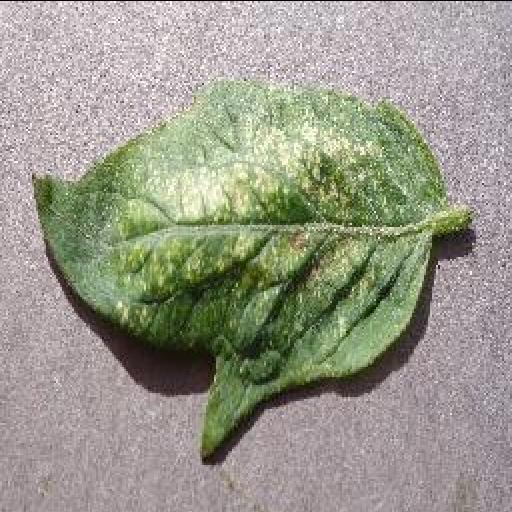disease_tomato: (32, 78, 446, 462)
